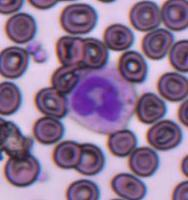N: (68, 67, 136, 134)
